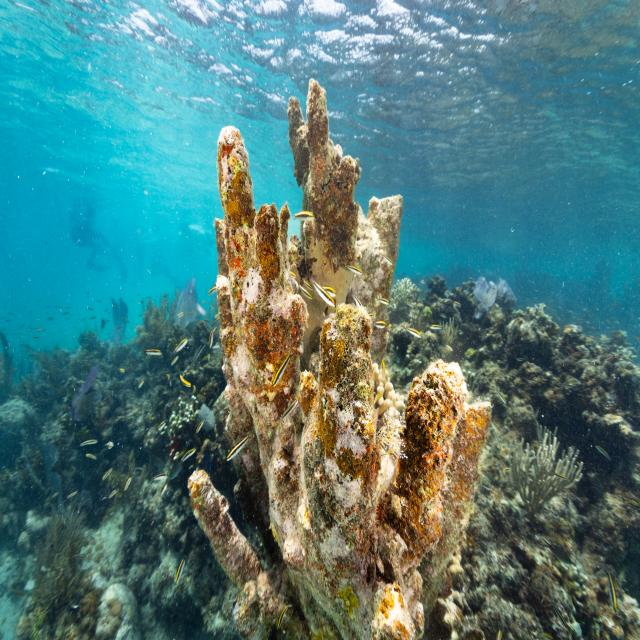Coral: (187, 77, 493, 640)
